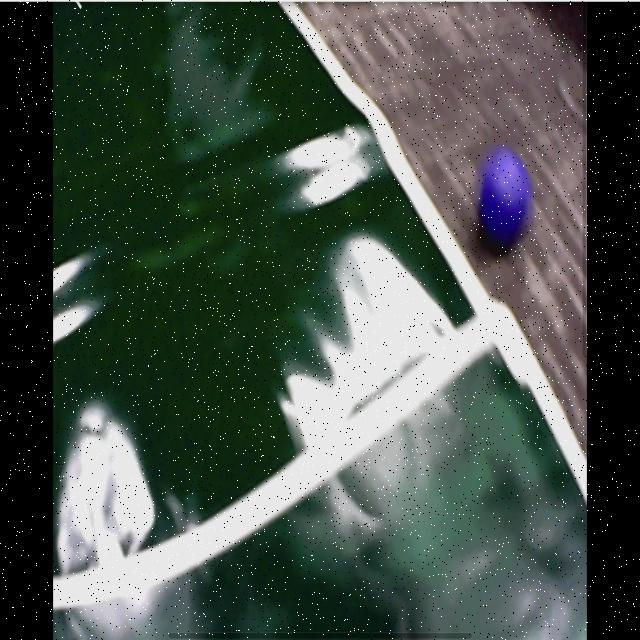ball: (477, 150, 533, 245)
